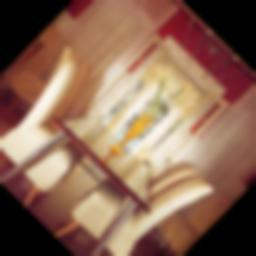Puerta: (88, 33, 173, 119), (147, 91, 229, 174)
